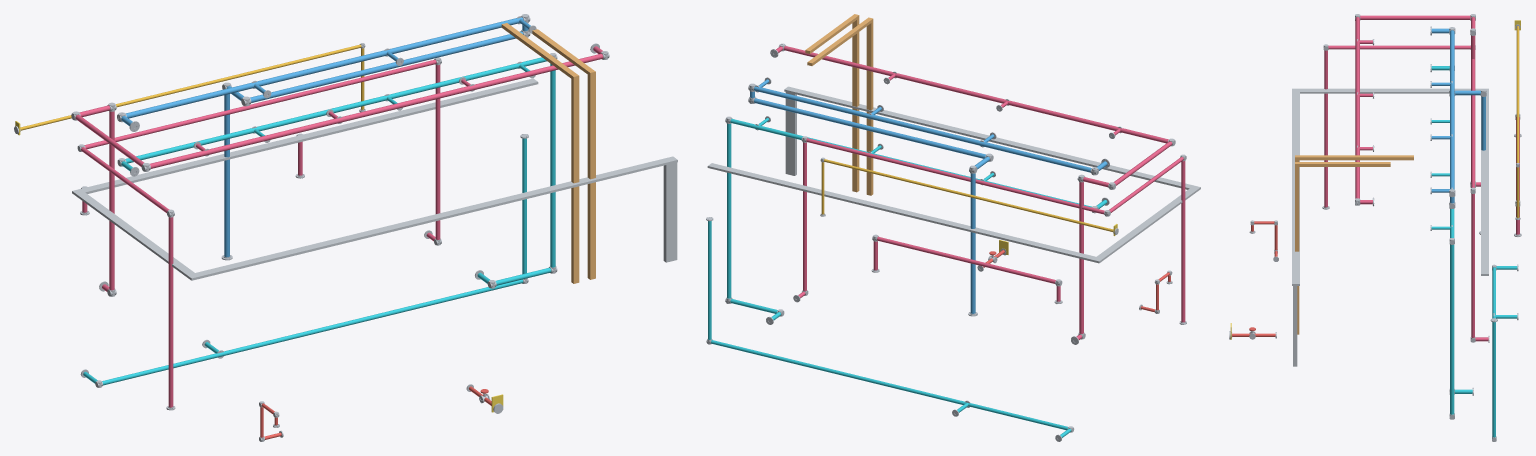
The model's file is PIP-1100_Process_Piping_Header.glb.
The picture shows the model from 3 angles, left to right: view 1: azimuth 30°, elevation 25°; view 2: azimuth 150°, elevation 25°; view 3: azimuth 270°, elevation 25°; orthographic projection. The views are drawn at different scales.
Visible parts, largest first — view 1: PIP-1100_065__LINE06_Anode_TwoPhase_O2_Header__PIPING_O2_BLU, PIP-1100_022__LINE03_Pure_H2_Compressor_Suction__PIPING_H2_R, PIP-1100_007__LINE01_Cathode_Wet_H2_Header__PIPING_H2_ROSE, PIP-1100_073__LINE07_UltraPure_DI_Supply_Header__PIPING_DI_C, PIP-1100_116__Main_South_Cable_Ladder_Tray__DECK_GALVANIZED, PIP-1100_117__Main_North_Cable_Ladder_Tray__DECK_GALVANIZED, PIP-1100_086__LINE08_Condensate_Recycle_Header__PIPING_DI_CY, PIP-1100_112__BUS01_Negative_Vertical_Riser__COPPER_BUSBAR, PIP-1100_110__BUS01_Positive_Vertical_Riser__COPPER_BUSBAR, PIP-1100_114__Profinet_SCADA_Cable_Riser__DECK_GALVANIZED, PIP-1100_100__LINE09_Nitrogen_Purge_Header__PIPING_N2_AMBER, PIP-1100_115__West_Cross_Cable_Ladder_Tray__DECK_GALVANIZED (+1 smaller); view 2: PIP-1100_065__LINE06_Anode_TwoPhase_O2_Header__PIPING_O2_BLU, PIP-1100_007__LINE01_Cathode_Wet_H2_Header__PIPING_H2_ROSE, PIP-1100_022__LINE03_Pure_H2_Compressor_Suction__PIPING_H2_R, PIP-1100_117__Main_North_Cable_Ladder_Tray__DECK_GALVANIZED, PIP-1100_116__Main_South_Cable_Ladder_Tray__DECK_GALVANIZED, PIP-1100_086__LINE08_Condensate_Recycle_Header__PIPING_DI_CY, PIP-1100_073__LINE07_UltraPure_DI_Supply_Header__PIPING_DI_C, PIP-1100_100__LINE09_Nitrogen_Purge_Header__PIPING_N2_AMBER, PIP-1100_110__BUS01_Positive_Vertical_Riser__COPPER_BUSBAR, PIP-1100_112__BUS01_Negative_Vertical_Riser__COPPER_BUSBAR, PIP-1100_014__LINE02_V300_To_DeOxo_Header__PIPING_H2_ROSE, PIP-1100_115__West_Cross_Cable_Ladder_Tray__DECK_GALVANIZED (+2 smaller); view 3: PIP-1100_022__LINE03_Pure_H2_Compressor_Suction__PIPING_H2_R, PIP-1100_007__LINE01_Cathode_Wet_H2_Header__PIPING_H2_ROSE, PIP-1100_065__LINE06_Anode_TwoPhase_O2_Header__PIPING_O2_BLU, PIP-1100_117__Main_North_Cable_Ladder_Tray__DECK_GALVANIZED, PIP-1100_073__LINE07_UltraPure_DI_Supply_Header__PIPING_DI_C, PIP-1100_116__Main_South_Cable_Ladder_Tray__DECK_GALVANIZED, PIP-1100_115__West_Cross_Cable_Ladder_Tray__DECK_GALVANIZED, PIP-1100_086__LINE08_Condensate_Recycle_Header__PIPING_DI_CY, PIP-1100_100__LINE09_Nitrogen_Purge_Header__PIPING_N2_AMBER, PIP-1100_111__BUS01_Positive_Overhead_Bridge__COPPER_BUSBAR, PIP-1100_112__BUS01_Negative_Vertical_Riser__COPPER_BUSBAR, PIP-1100_113__BUS01_Negative_Overhead_Bridge__COPPER_BUSBAR (+2 smaller).
Part boxes in pixels (box(x1,y1,x2,y2)): PIP-1100_065__LINE06_Anode_TwoPhase_O2_Header__PIPING_O2_BLU: box(125, 17, 528, 257); PIP-1100_022__LINE03_Pure_H2_Compressor_Suction__PIPING_H2_R: box(81, 59, 440, 407); PIP-1100_007__LINE01_Cathode_Wet_H2_Header__PIPING_H2_ROSE: box(75, 53, 603, 291); PIP-1100_073__LINE07_UltraPure_DI_Supply_Header__PIPING_DI_C: box(121, 57, 555, 285); PIP-1100_116__Main_South_Cable_Ladder_Tray__DECK_GALVANIZED: box(191, 156, 677, 280); PIP-1100_117__Main_North_Cable_Ladder_Tray__DECK_GALVANIZED: box(73, 78, 538, 194); PIP-1100_086__LINE08_Condensate_Recycle_Header__PIPING_DI_CY: box(83, 138, 526, 385); PIP-1100_112__BUS01_Negative_Vertical_Riser__COPPER_BUSBAR: box(587, 73, 595, 279); PIP-1100_110__BUS01_Positive_Vertical_Riser__COPPER_BUSBAR: box(571, 77, 579, 283); PIP-1100_114__Profinet_SCADA_Cable_Riser__DECK_GALVANIZED: box(663, 157, 677, 262); PIP-1100_100__LINE09_Nitrogen_Purge_Header__PIPING_N2_AMBER: box(20, 44, 364, 130); PIP-1100_115__West_Cross_Cable_Ladder_Tray__DECK_GALVANIZED: box(72, 191, 199, 280); PIP-1100_065__LINE06_Anode_TwoPhase_O2_Header__PIPING_O2_BLU: box(750, 86, 1091, 313); PIP-1100_007__LINE01_Cathode_Wet_H2_Header__PIPING_H2_ROSE: box(784, 46, 1172, 339); PIP-1100_022__LINE03_Pure_H2_Compressor_Suction__PIPING_H2_R: box(798, 138, 1185, 322); PIP-1100_117__Main_North_Cable_Ladder_Tray__DECK_GALVANIZED: box(707, 163, 1099, 262); PIP-1100_116__Main_South_Cable_Ladder_Tray__DECK_GALVANIZED: box(784, 86, 1199, 189); PIP-1100_086__LINE08_Condensate_Recycle_Header__PIPING_DI_CY: box(708, 221, 1071, 437); PIP-1100_073__LINE07_UltraPure_DI_Supply_Header__PIPING_DI_C: box(727, 119, 1107, 320); PIP-1100_100__LINE09_Nitrogen_Purge_Header__PIPING_N2_AMBER: box(821, 159, 1113, 231); PIP-1100_110__BUS01_Positive_Vertical_Riser__COPPER_BUSBAR: box(866, 20, 873, 195); PIP-1100_112__BUS01_Negative_Vertical_Riser__COPPER_BUSBAR: box(852, 17, 859, 192); PIP-1100_014__LINE02_V300_To_DeOxo_Header__PIPING_H2_ROSE: box(873, 236, 1060, 301); PIP-1100_115__West_Cross_Cable_Ladder_Tray__DECK_GALVANIZED: box(1092, 185, 1200, 263); PIP-1100_022__LINE03_Pure_H2_Compressor_Suction__PIPING_H2_R: box(1324, 45, 1488, 341); PIP-1100_007__LINE01_Cathode_Wet_H2_Header__PIPING_H2_ROSE: box(1355, 15, 1480, 198); PIP-1100_065__LINE06_Anode_TwoPhase_O2_Header__PIPING_O2_BLU: box(1450, 30, 1485, 203); PIP-1100_117__Main_North_Cable_Ladder_Tray__DECK_GALVANIZED: box(1481, 88, 1488, 275); PIP-1100_073__LINE07_UltraPure_DI_Supply_Header__PIPING_DI_C: box(1431, 66, 1472, 414); PIP-1100_116__Main_South_Cable_Ladder_Tray__DECK_GALVANIZED: box(1292, 89, 1299, 285); PIP-1100_115__West_Cross_Cable_Ladder_Tray__DECK_GALVANIZED: box(1292, 88, 1488, 93); PIP-1100_086__LINE08_Condensate_Recycle_Header__PIPING_DI_CY: box(1492, 266, 1517, 437); PIP-1100_100__LINE09_Nitrogen_Purge_Header__PIPING_N2_AMBER: box(1516, 26, 1519, 217); PIP-1100_111__BUS01_Positive_Overhead_Bridge__COPPER_BUSBAR: box(1295, 155, 1413, 160); PIP-1100_112__BUS01_Negative_Vertical_Riser__COPPER_BUSBAR: box(1295, 165, 1299, 334); PIP-1100_113__BUS01_Negative_Overhead_Bridge__COPPER_BUSBAR: box(1295, 162, 1390, 166).
Bounding box in the file's own units: 9.49 × 5.42 × 5.57.
